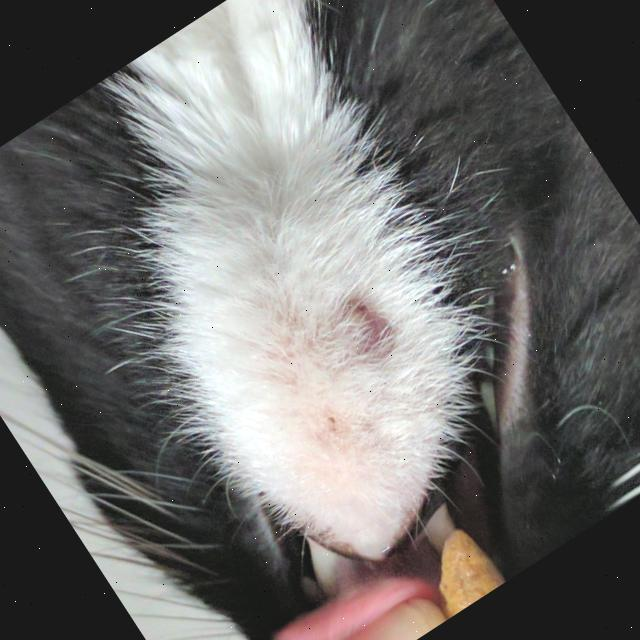cat-dermatitis: (312, 280, 413, 385)
